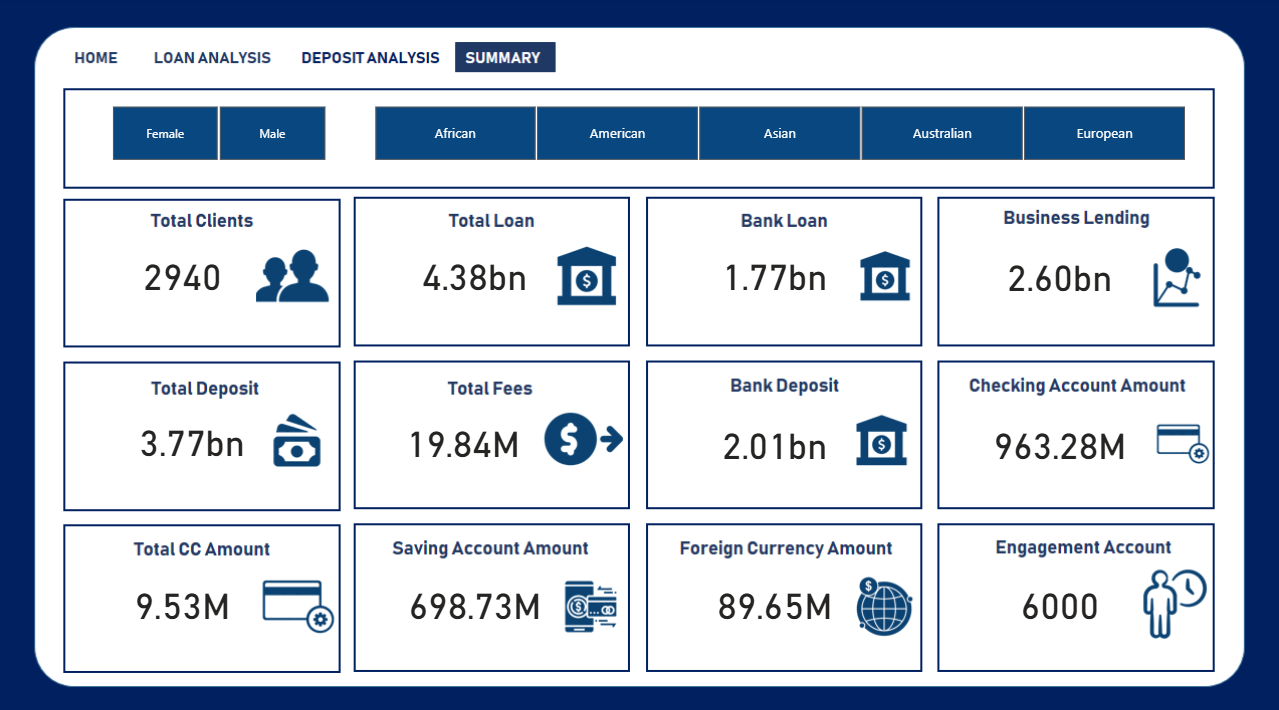

The page's visual inventory and layout, read from the dashboard file:
{"tool":"powerbi","page":{"name":"Summary","canvas":[1280,720],"ordinal":3},"visuals":[{"type":"card","fields":{"Values":["banking_case cust.Total_client"]},"box":[114.8,245.4,146.3,61.7],"z":0},{"type":"card","fields":{"Values":["banking_case cust.Total_Loan"]},"box":[405,245.4,146.3,61.7],"z":1000},{"type":"card","fields":{"Values":["Sum(banking_case cust.Bank Loans)"]},"box":[703.6,245.4,146.3,61.7],"z":2000},{"type":"card","fields":{"Values":["Sum(banking_case cust.Business Lending)"]},"box":[987.7,246.6,146.3,61.7],"z":3000},{"type":"card","fields":{"Values":["banking_case cust.Total_Deposit"]},"box":[124.5,411,146.3,61.7],"z":4000},{"type":"card","fields":{"Values":["Sum(banking_case cust.TotalFees)"]},"box":[405,412.2,146.3,61.7],"z":5000},{"type":"card","fields":{"Values":["Sum(banking_case cust.Bank Deposits)"]},"box":[703.6,413.5,146.3,61.7],"z":6000},{"type":"card","fields":{"Values":["Sum(banking_case cust.Checking Accounts)"]},"box":[987.7,413.5,146.3,61.7],"z":7000},{"type":"card","fields":{"Values":["banking_case cust.Total Engagement Accounts"]},"box":[987.7,571.8,146.3,61.7],"z":8000},{"type":"card","fields":{"Values":["Sum(banking_case cust.Credit Card Balance)"]},"box":[114.8,571.8,146.3,61.7],"z":9000},{"type":"card","fields":{"Values":["Sum(banking_case cust.Saving Accounts)"]},"box":[405,571.8,146.3,61.7],"z":10000},{"type":"card","fields":{"Values":["Sum(banking_case cust.Foreign Currency Account)"]},"box":[703.6,571.8,146.3,61.7],"z":11000},{"type":"actionButton","box":[61.5,41,76,35],"z":11001},{"type":"actionButton","box":[152,41,131.5,35],"z":11002},{"type":"actionButton","box":[300.4,41,146,35],"z":11003},{"type":"slicer","fields":{"Values":["banking_case cust.GenderId"]},"box":[92.1,102,261.3,67.2],"z":11004},{"type":"slicer","fields":{"Values":["banking_case cust.Nationality"]},"box":[353.3,102,856,67.2],"z":11005}]}

Visuals, with their boxes in screenshot pixels (x1, y1, x2, y2), scaled from the page's 1280x720 canvas onto the 1279x710 screenshot:
card - banking_case cust.Total_client: rect(115, 242, 261, 303)
card - banking_case cust.Total_Loan: rect(405, 242, 551, 303)
card - Sum(banking_case cust.Bank Loans): rect(703, 242, 849, 303)
card - Sum(banking_case cust.Business Lending): rect(987, 243, 1133, 304)
card - banking_case cust.Total_Deposit: rect(124, 405, 271, 466)
card - Sum(banking_case cust.TotalFees): rect(405, 406, 551, 467)
card - Sum(banking_case cust.Bank Deposits): rect(703, 408, 849, 469)
card - Sum(banking_case cust.Checking Accounts): rect(987, 408, 1133, 469)
card - banking_case cust.Total Engagement Accounts: rect(987, 564, 1133, 625)
card - Sum(banking_case cust.Credit Card Balance): rect(115, 564, 261, 625)
card - Sum(banking_case cust.Saving Accounts): rect(405, 564, 551, 625)
card - Sum(banking_case cust.Foreign Currency Account): rect(703, 564, 849, 625)
actionButton: rect(61, 40, 137, 75)
actionButton: rect(152, 40, 283, 75)
actionButton: rect(300, 40, 446, 75)
slicer - banking_case cust.GenderId: rect(92, 101, 353, 167)
slicer - banking_case cust.Nationality: rect(353, 101, 1208, 167)
